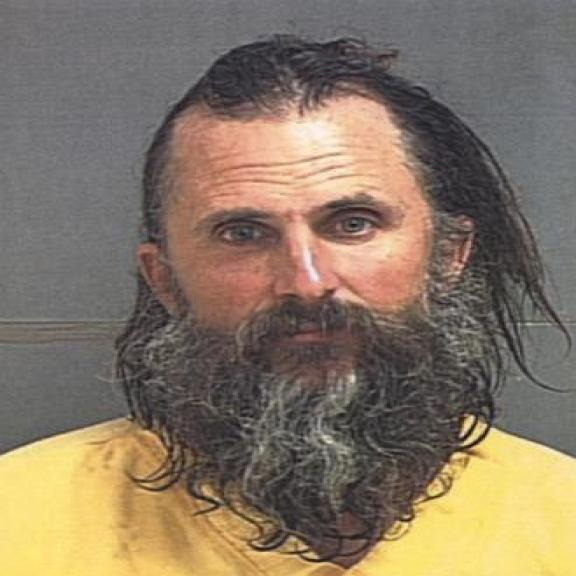face: (126, 121, 475, 389)
